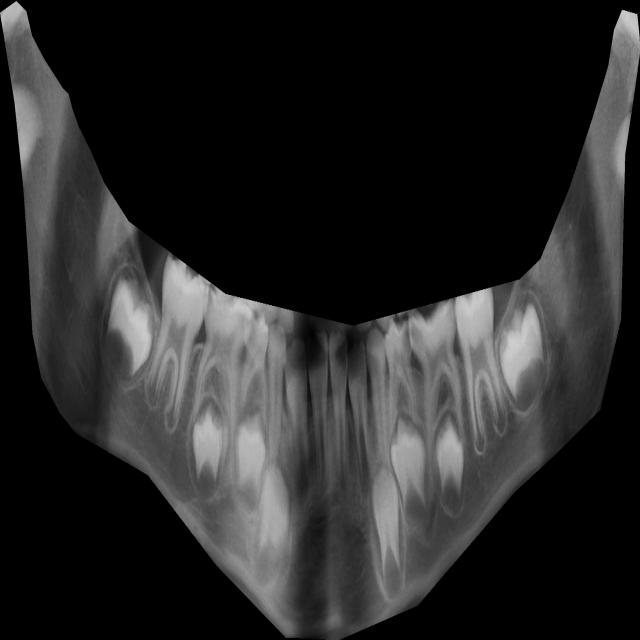mandibula: (0, 1, 640, 640)
